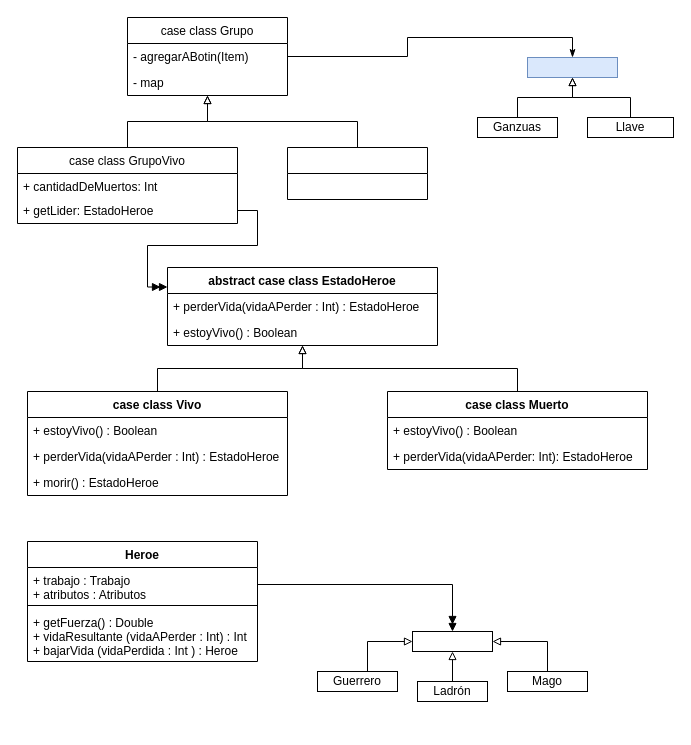
Some shapes in this 691 by 745 pixel diagram are drawn without their labels. The shapes that lost their labels are listed below. From the top down, each one's centre as x and y in pixels, then its label:
At pixel 572 67: "Item".
At pixel 357 173: "case class GrupoMuerto".
At pixel 452 641: "Trabajo".
